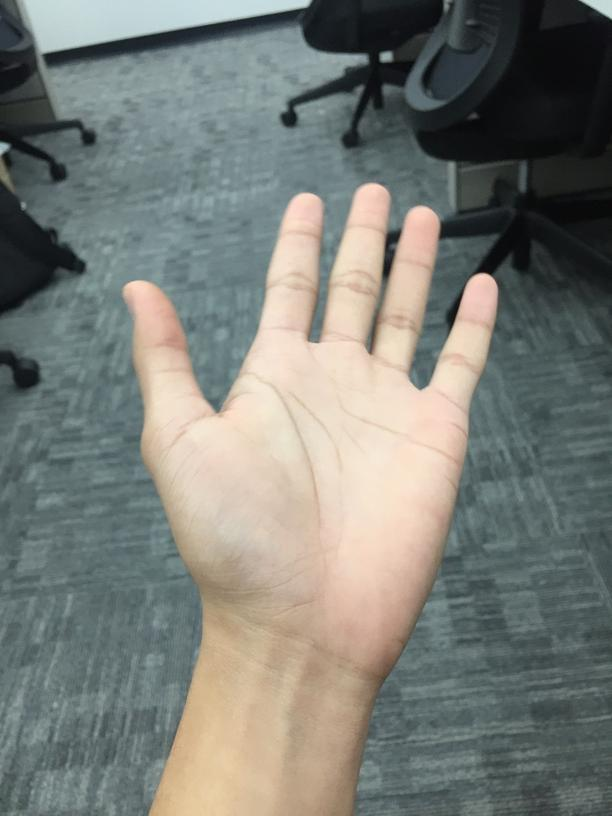hand: (120, 179, 502, 673)
